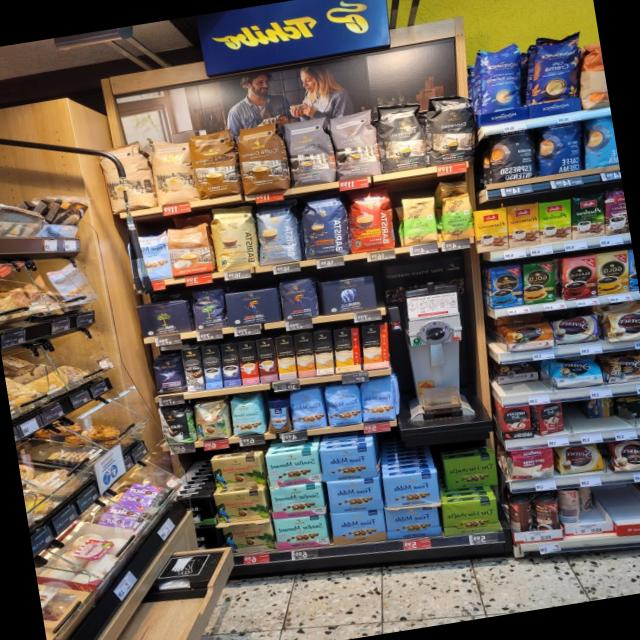AB Gemahlen: (318, 274, 381, 318)
Athiopien Bohne: (435, 193, 476, 244)
Athiopien Gemahlen: (396, 194, 441, 248)
BM Bohne: (188, 286, 228, 333)
BM Gemahlen: (133, 298, 194, 340)
BW Bohne: (154, 403, 198, 448)
Barista CB: (207, 205, 263, 272)
Barista CC: (250, 198, 306, 268)
Barista Espresso: (295, 194, 353, 260)
Barista Kolumbien: (342, 186, 400, 254)
C Fino Bohne: (150, 353, 186, 396)
CC Mild: (96, 142, 156, 216), (148, 137, 200, 208)
CC Vollmundig: (164, 214, 216, 277)
CC Vollmundig 36 Pads: (232, 122, 292, 196), (187, 128, 243, 201)
Colombia BB Bohne: (192, 399, 234, 443)
Colombia BB Gemahlen: (212, 488, 269, 526), (220, 518, 276, 556), (211, 454, 266, 491)
Espresso Aromatisch: (326, 107, 385, 182), (282, 116, 336, 188)
Espresso Kraftig: (419, 88, 484, 168), (374, 100, 434, 174)
FM 36 Pads: (126, 230, 174, 286)
FM Bohne: (358, 376, 400, 425), (322, 382, 366, 428), (287, 386, 328, 432)
FM Gemahlen: (380, 470, 442, 510), (317, 443, 378, 483), (324, 476, 384, 516), (328, 506, 388, 546), (384, 504, 444, 542)
FM Instant: (264, 396, 294, 436)
Herzhatfe Mundig: (438, 495, 502, 539), (439, 450, 502, 494)
LG Bohne: (276, 273, 322, 322)
LG Gemahlen: (222, 285, 284, 329)
SM Bohne: (228, 395, 268, 439)
SM Gemahlen: (263, 449, 323, 488), (267, 482, 327, 521), (274, 514, 329, 551)
Simo CCMild: (330, 327, 366, 374)
Simo CCMild bigpack: (274, 336, 299, 380)
Simo CCVollmundig: (358, 324, 396, 372)
Simo CCVollmundig bigpack: (292, 334, 318, 379)
Simo Decaff: (311, 331, 336, 376)
Simo Es Brazil: (237, 341, 260, 386)
Simo Es Caramel: (254, 338, 280, 384)
Simo Es Elegant: (181, 347, 206, 393)
Simo Es Kraft: (217, 342, 244, 388)
Simo Es Vanilla: (199, 346, 224, 390)
